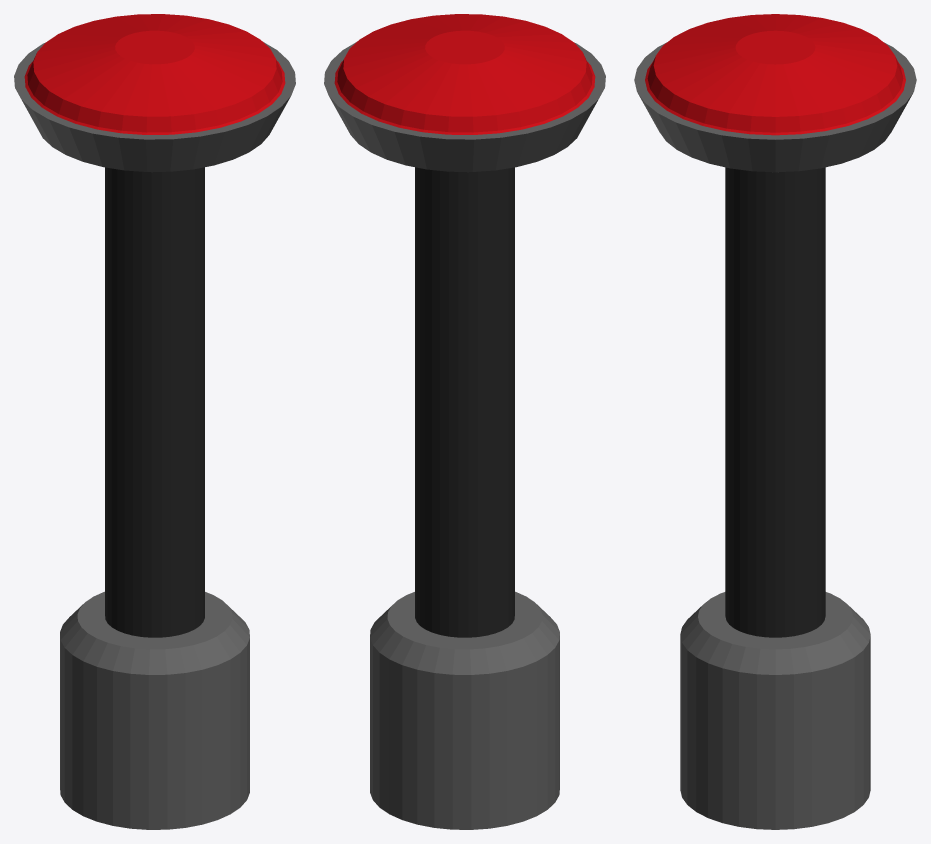
Rendered from simpleStool.obj.
3 views of the same model, side by side, from view 1: azimuth 30°, elevation 25°; view 2: azimuth 150°, elevation 25°; view 3: azimuth 270°, elevation 25° (orthographic).
Parts seen in each view (by area): view 1: Stool_Cylinder.002; view 2: Stool_Cylinder.002; view 3: Stool_Cylinder.002.
Boxes of the visible parts, <box> form: Stool_Cylinder.002: <box>14,14,295,829</box>; Stool_Cylinder.002: <box>324,14,605,829</box>; Stool_Cylinder.002: <box>634,14,916,829</box>.
Bounding box in the file's own units: 0.1253 × 0.3633 × 0.1253.
